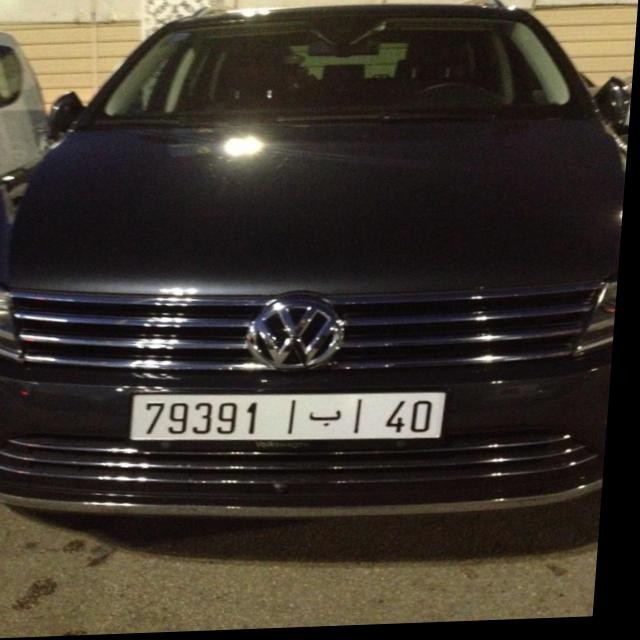License-Plate: (137, 395, 453, 443)
